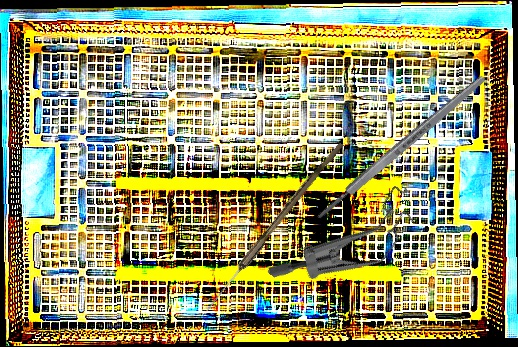Scalpel Handle: (314, 73, 488, 222)
Speculum: (264, 149, 431, 327)
Surgical Spoon: (203, 139, 344, 315)
